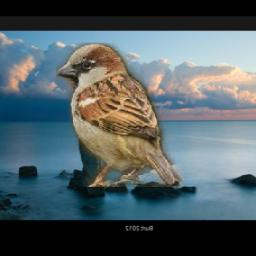Sparrow: (56, 44, 184, 188)
